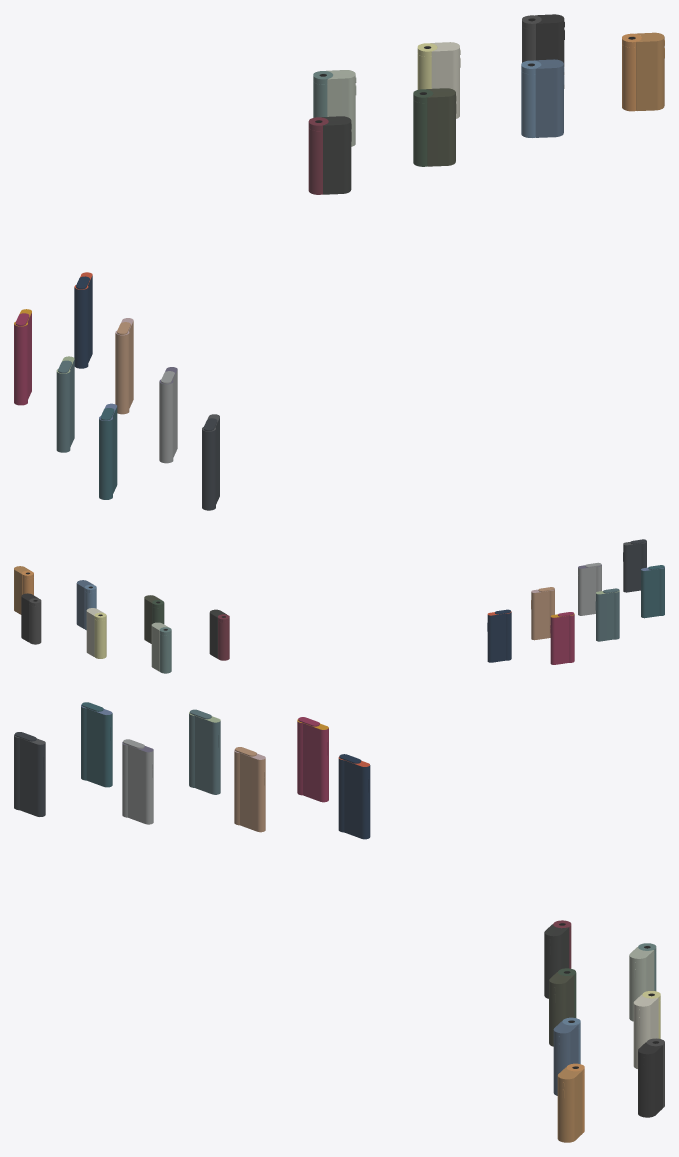
Rendered from DeviceP0.glb.
The picture shows the model from 3 angles, top to bottom: view 1: azimuth 30°, elevation 25°; view 2: azimuth 150°, elevation 25°; view 3: azimuth 270°, elevation 25°; orthographic projection. The views are drawn at different scales.
Parts seen in each view (by area): view 1: device_P0_g; view 2: device_P0_g; view 3: device_P0_g.
Boxes of the visible parts, x1=… form: device_P0_g: x1=14, y1=14, x2=664, y2=510; device_P0_g: x1=14, y1=539, x2=664, y2=673; device_P0_g: x1=14, y1=702, x2=664, y2=1142.
Bounding box in the file's own units: 2.4 × 0.2224 × 1.79.
1 material, 1 textured.
